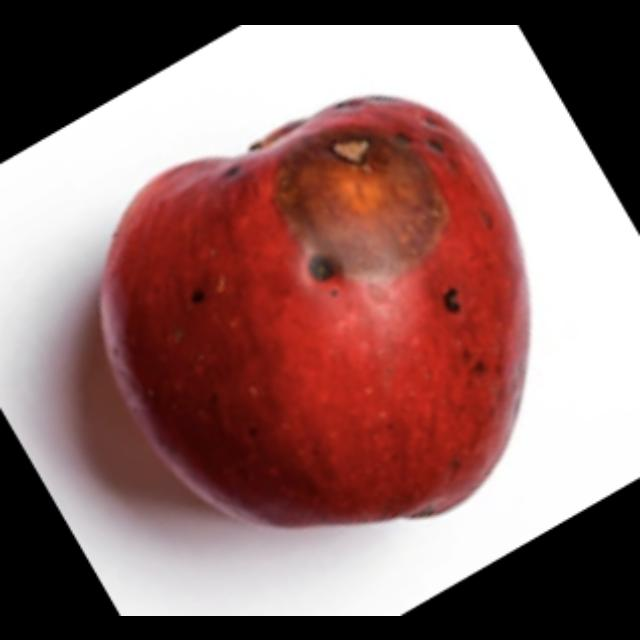Apel Tidak Segar: (71, 89, 586, 556)
